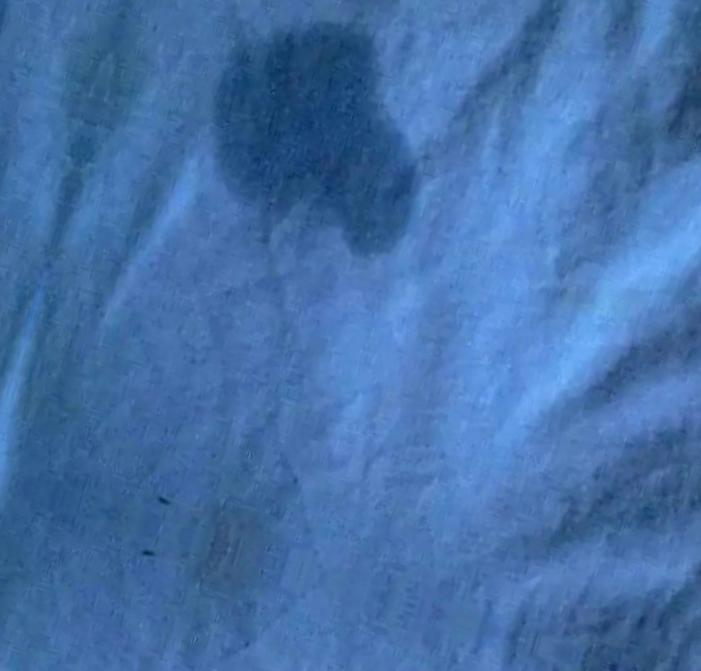stain: (198, 13, 438, 263)
